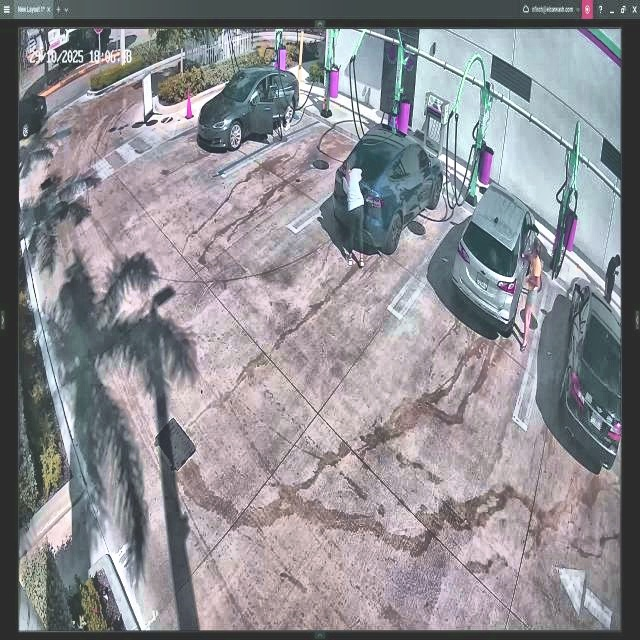Car: (335, 128, 444, 250), (455, 192, 534, 327), (193, 66, 299, 147)
